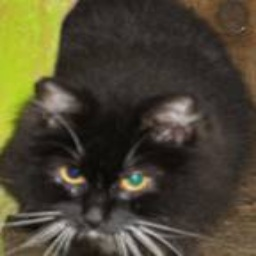cat: (3, 1, 241, 255)
